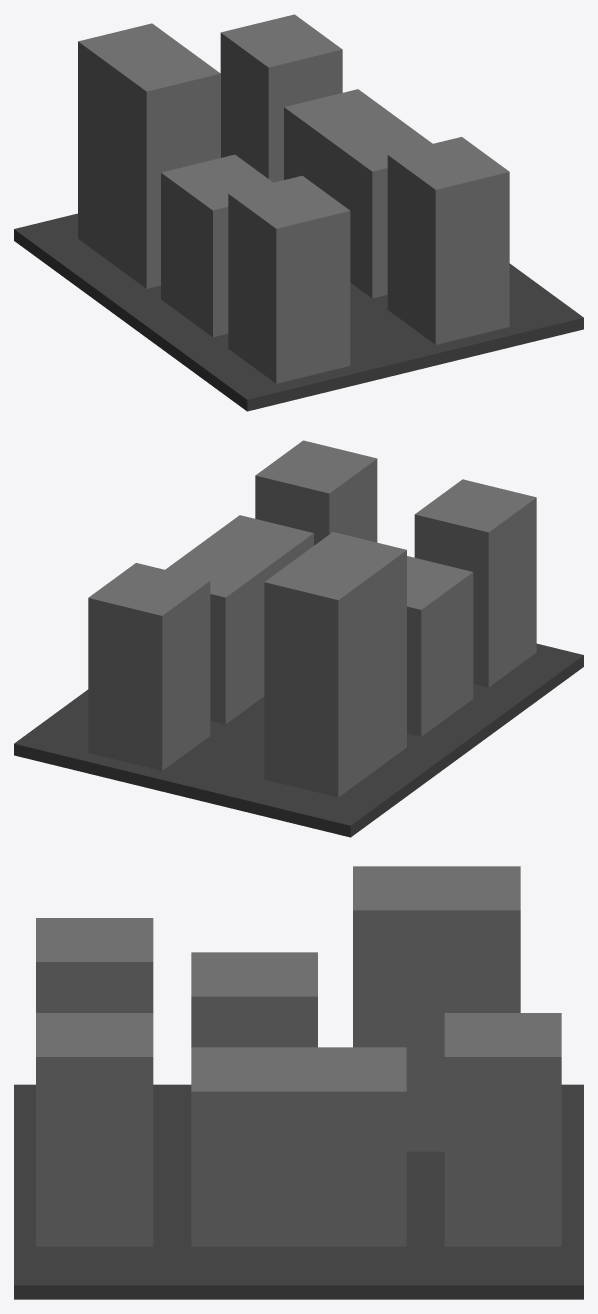
Rendered from sity_1.vox.obj.
3 renders of one model, top to bottom at view 1: azimuth 30°, elevation 25°; view 2: azimuth 150°, elevation 25°; view 3: azimuth 270°, elevation 25°, orthographic. The views are drawn at different scales.
Bounding box in the file's own units: 15 × 8.9 × 18.
